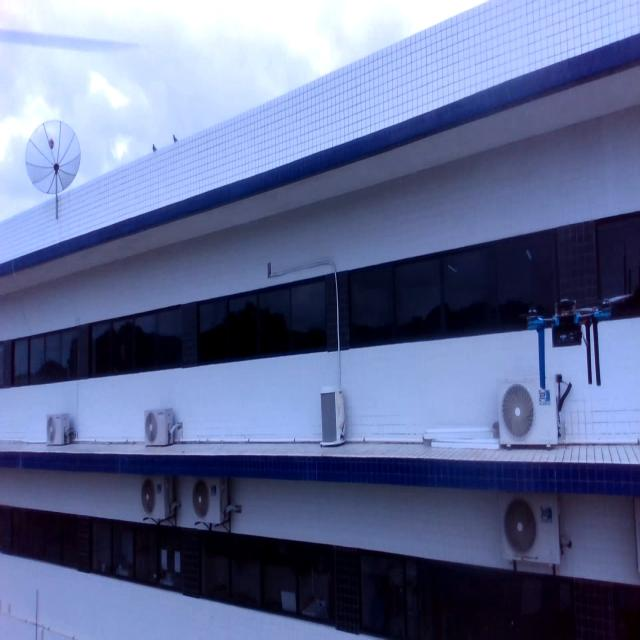-uav-: (508, 277, 634, 400)
